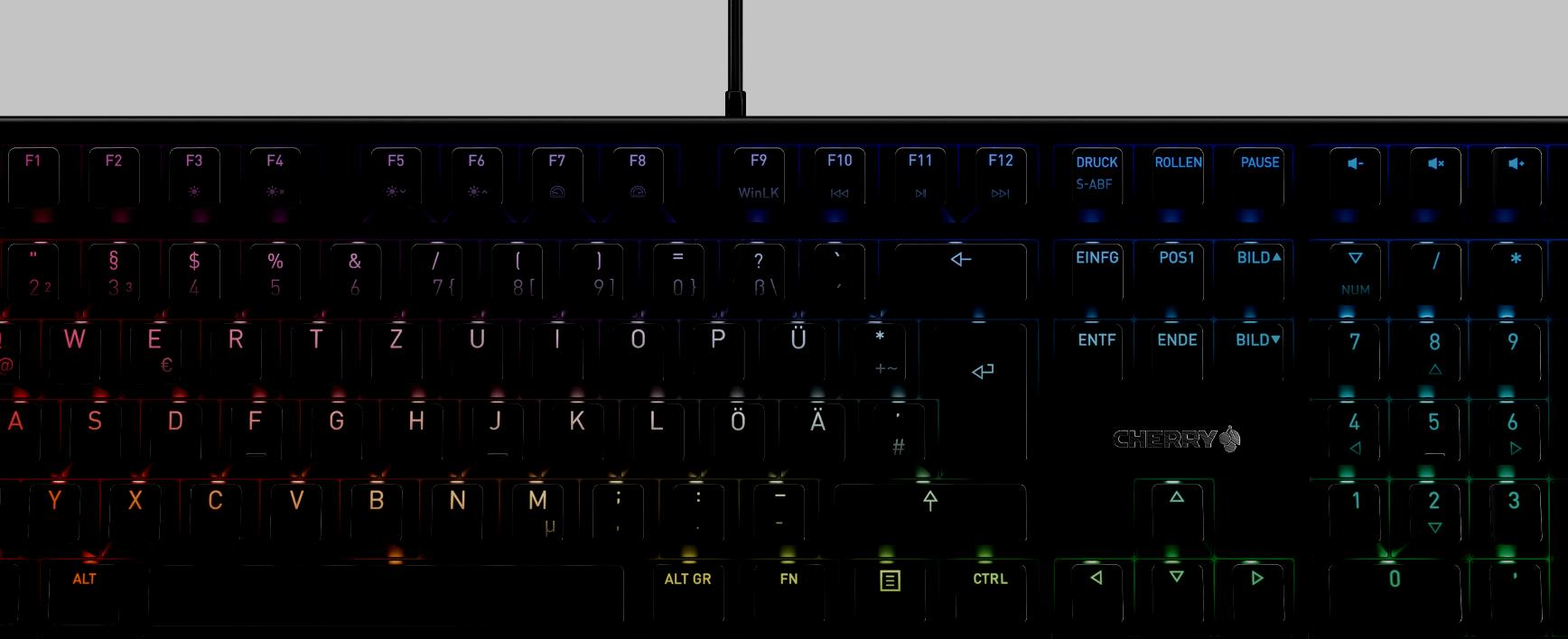0: (647, 236, 706, 305)
1: (1, 236, 29, 306)
2: (3, 237, 61, 307)
3: (83, 236, 141, 305)
4: (165, 236, 223, 305)
5: (246, 236, 304, 306)
6: (327, 236, 385, 305)
7: (407, 236, 463, 307)
8: (488, 236, 546, 307)
9: (568, 236, 624, 305)
a: (1, 396, 40, 464)
accent: (810, 236, 866, 306)
ae: (792, 397, 846, 465)
alt-left: (42, 558, 123, 625)
altgr-right: (646, 558, 729, 627)
b: (346, 477, 404, 544)
c: (185, 477, 243, 543)
caret: (1, 236, 29, 305)
comma: (589, 477, 646, 545)
d: (146, 398, 202, 464)
del: (891, 238, 1027, 304)
e: (126, 317, 182, 382)
enter: (928, 316, 1030, 468)
f: (227, 397, 283, 462)
g: (308, 399, 362, 463)
h: (388, 398, 443, 464)
hash: (869, 397, 926, 467)
i: (528, 318, 584, 382)
j: (470, 396, 524, 462)
k: (549, 397, 605, 465)
keyboard: (1, 111, 1568, 639)
l: (630, 396, 685, 463)
less: (1, 476, 29, 543)
m: (508, 477, 566, 546)
minus: (750, 477, 807, 542)
n: (428, 477, 486, 545)
o: (608, 317, 667, 384)
oe: (710, 396, 766, 465)
p: (688, 317, 746, 378)
plus: (850, 316, 906, 384)
point: (670, 477, 727, 542)
q: (1, 317, 31, 384)
r: (206, 316, 264, 383)
s: (66, 398, 122, 464)
shift-left: (1, 477, 38, 542)
shift-lock: (1, 397, 57, 463)
shift-right: (830, 478, 1028, 544)
space: (143, 558, 630, 630)
ss: (730, 236, 787, 303)
strg-left: (1, 557, 41, 625)
strg-right: (948, 558, 1031, 627)
t: (287, 317, 343, 382)
tab: (1, 317, 49, 382)
u: (447, 318, 505, 384)
ue: (770, 317, 826, 385)
v: (266, 477, 324, 543)
w: (46, 319, 103, 384)
x: (106, 477, 162, 543)
y: (25, 477, 81, 544)
z: (369, 316, 424, 383)
